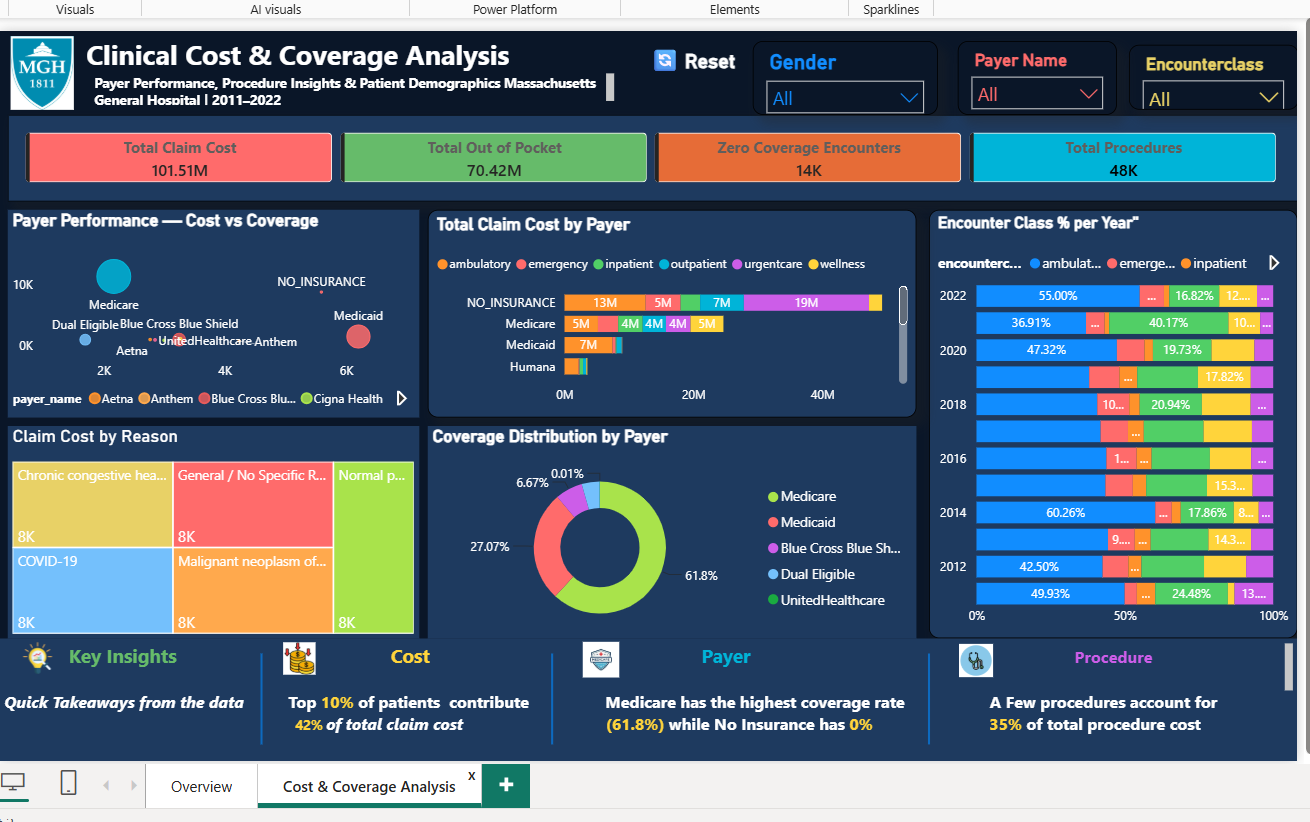

This screenshot's page, from the dashboard's own definition file:
{"tool":"powerbi","page":{"name":"Cost & Coverage Analysis","canvas":[1280,720],"ordinal":1},"visuals":[{"type":"cardVisual","fields":{"Data":["Measures (2).Total Claim Cost","Measures (2).Total Out of Pocket","Measures (2).Zero Coverage Encounters","Measures (2).Total Procedures"]},"box":[8.5,82.2,1271.8,85.8],"z":0},{"type":"hundredPercentStackedBarChart","title":"Encounter Class % per Year\"","fields":{"Series":["hospital_cleaned_final.encounterclass"],"Category":["hospital_cleaned_final.year"],"Y":["Measures (2).Total Encounters"]},"box":[916.6,176.2,363.4,422.6],"z":1000},{"type":"barChart","title":"Total Claim Cost by Payer","fields":{"Series":["hospital_cleaned_final.encounterclass"],"Category":["hospital_cleaned_final.payer_name"],"Y":["Measures (2).Total Claim Cost"]},"box":[422.6,176.2,481.7,204.5],"z":2000},{"type":"textbox","box":[8,0,1056,73],"z":3000},{"type":"textbox","box":[88.7,37,522.3,40.7],"z":4000},{"type":"slicer","fields":{"Values":["hospital_cleaned_final.encounterclass"]},"box":[1113.4,13.3,166.8,64.1],"z":5000},{"type":"slicer","fields":{"Values":["hospital_cleaned_final.gender_full"]},"box":[742.9,9.9,182.3,72.7],"z":6000},{"type":"slicer","fields":{"Values":["hospital_cleaned_final.payer_name"]},"box":[945.4,9.7,157.2,72.5],"z":7000},{"type":"textbox","box":[7.4,602.4,1272.6,117],"z":8000},{"type":"image","box":[16,602.4,43.5,31.4],"z":9000},{"type":"image","box":[303.1,606.1,35.7,32],"z":10000},{"type":"image","box":[611,606.1,35.7,37],"z":11000},{"type":"image","box":[970.8,607.4,33.3,35.7],"z":12000},{"type":"shape","box":[257.5,613.5,12.3,89.9],"z":13000},{"type":"shape","box":[535.9,613.5,18.5,89.9],"z":14000},{"type":"shape","box":[907.9,613.5,17.2,89.9],"z":15000},{"type":"actionButton","title":"🔄 Reset ","box":[641.3,13.1,100.1,51.3],"z":16000},{"type":"scatterChart","title":"Payer Performance — Cost vs Coverage","fields":{"X":["Measures (2).Avg Claim Cost"],"Y":["Measures (2).Total Encounters"],"Series":["hospital_cleaned_final.payer_name"],"Size":["Measures (2).Total Payer Coverage"]},"box":[8.6,176.2,405.3,204.5],"z":17000},{"type":"donutChart","title":"Coverage Distribution by Payer","fields":{"Category":["hospital_cleaned_final.payer_name"],"Y":["Measures (2).Total Payer Coverage"]},"box":[422.6,389.3,481.7,209.4],"z":18000},{"type":"treemap","title":"Claim Cost by Reason","fields":{"Group":["hospital_cleaned_final.reasondescription"],"Values":["Measures (2).Filtered Encounters"]},"box":[8.6,389.3,405.3,209.4],"z":19000},{"type":"image","box":[7.4,4.9,70.2,72.7],"z":20000}]}

Visuals, with their boxes on the page's 1280x720 design canvas (x1, y1, x2, y2). These are canvas units, not pixel positions in the 1310x822 screenshot, which may show the page scaled, cropped or inside an application window:
cardVisual - Measures (2).Total Claim Cost x Measures (2).Total Out of Pocket: crop(8, 82, 1280, 168)
"Encounter Class % per Year"" hundredPercentStackedBarChart: crop(917, 176, 1280, 599)
"Total Claim Cost by Payer" barChart: crop(423, 176, 904, 381)
textbox: crop(8, 0, 1064, 73)
textbox: crop(89, 37, 611, 78)
slicer - hospital_cleaned_final.encounterclass: crop(1113, 13, 1280, 77)
slicer - hospital_cleaned_final.gender_full: crop(743, 10, 925, 83)
slicer - hospital_cleaned_final.payer_name: crop(945, 10, 1103, 82)
textbox: crop(7, 602, 1280, 719)
image: crop(16, 602, 60, 634)
image: crop(303, 606, 339, 638)
image: crop(611, 606, 647, 643)
image: crop(971, 607, 1004, 643)
shape: crop(258, 614, 270, 703)
shape: crop(536, 614, 554, 703)
shape: crop(908, 614, 925, 703)
"🔄 Reset " actionButton: crop(641, 13, 741, 64)
"Payer Performance — Cost vs Coverage" scatterChart: crop(9, 176, 414, 381)
"Coverage Distribution by Payer" donutChart: crop(423, 389, 904, 599)
"Claim Cost by Reason" treemap: crop(9, 389, 414, 599)
image: crop(7, 5, 78, 78)
